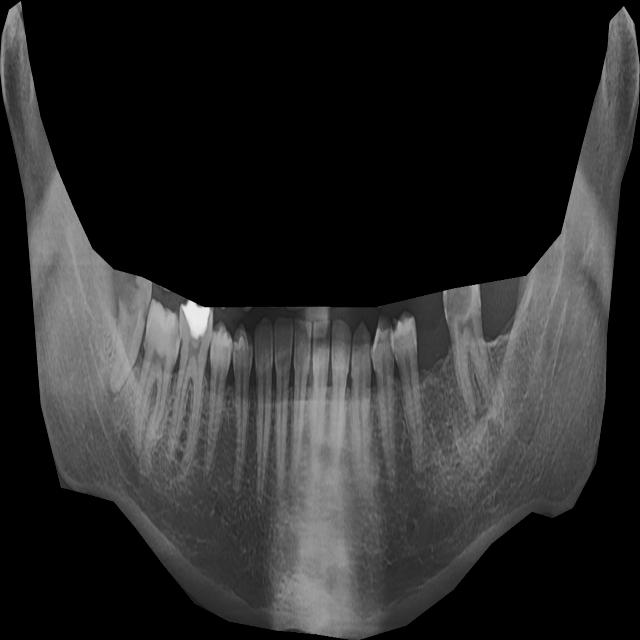mandibula: (0, 1, 640, 640)
